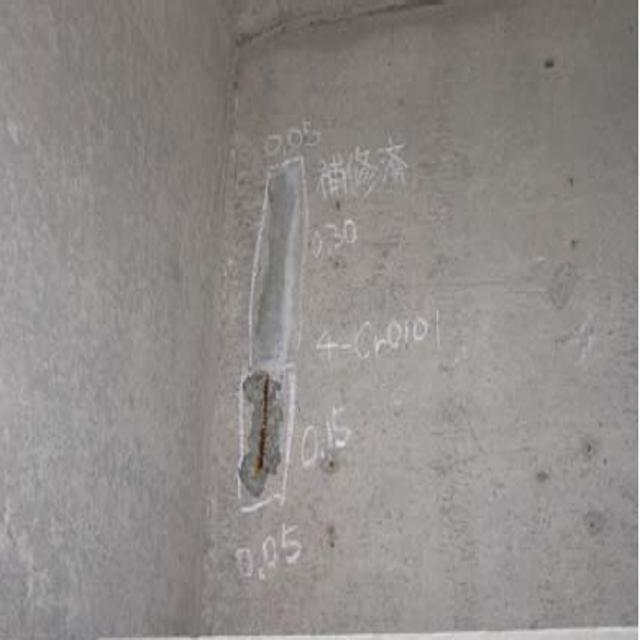spalling: (226, 367, 307, 537)
